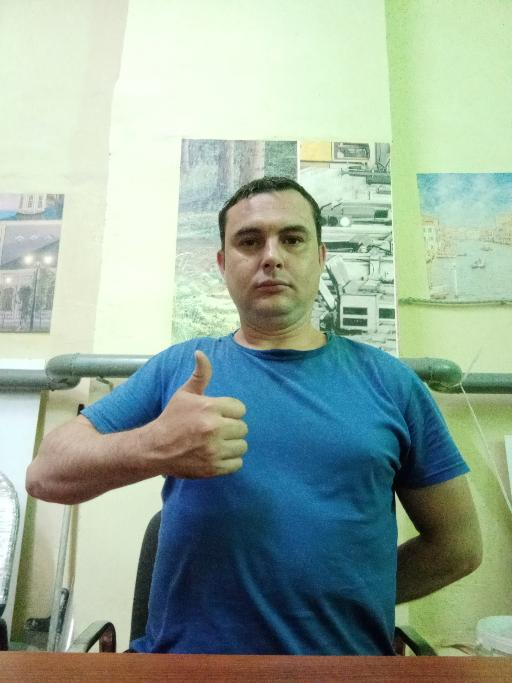like: (155, 348, 249, 481)
